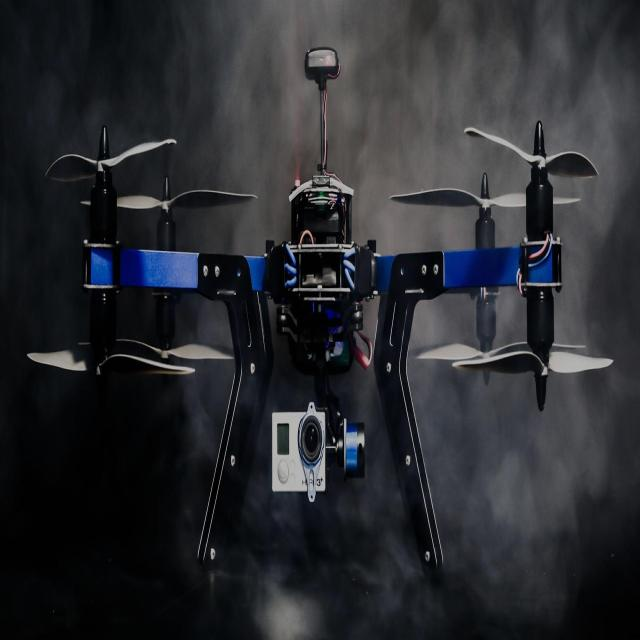drone: (25, 46, 640, 533)
